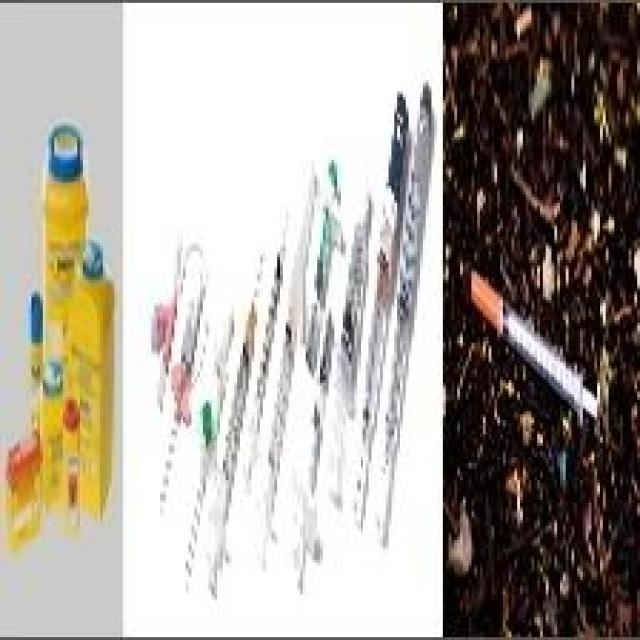syringe: (172, 228, 430, 616), (464, 247, 594, 440)
